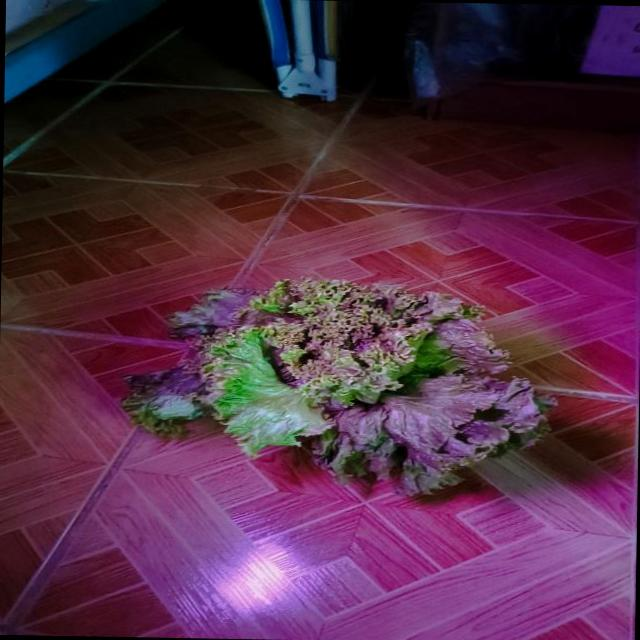Lettuce-Ready-to-Harvest: (123, 277, 549, 494)
